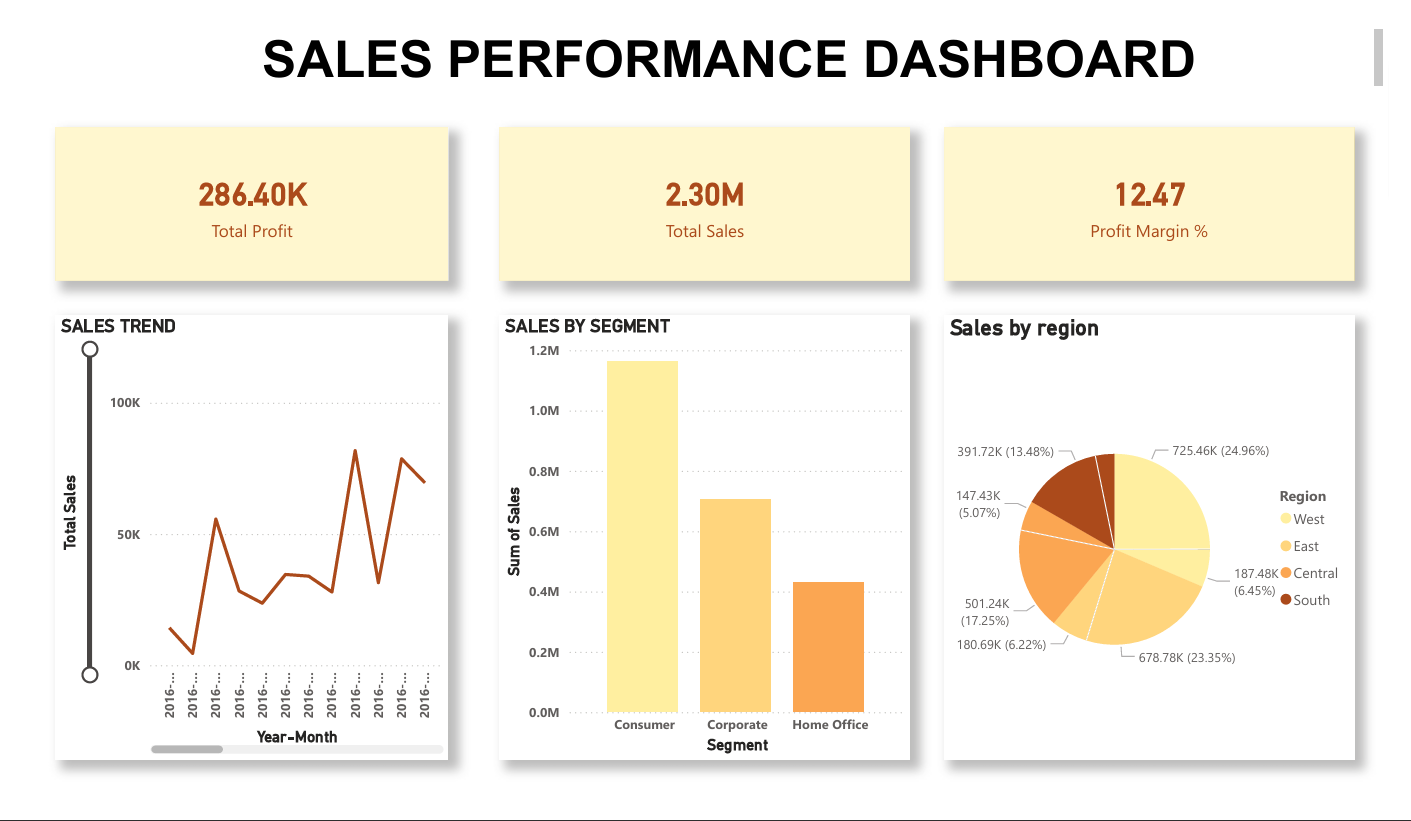

What the dashboard file says about the page in this screenshot:
{"tool":"powerbi","page":{"name":"\tFINAL DASHBOARD SCREENSHOT","canvas":[1280,720],"ordinal":2},"visuals":[{"type":"textbox","box":[16,0,1264,96],"z":0},{"type":"textbox","box":[16,64,1264,64],"z":1000},{"type":"card","fields":{"Values":["Orders.Total Sales"]},"box":[32,128,384,144],"z":2000},{"type":"card","fields":{"Values":["Orders.Total Sales"]},"box":[448,128,384,144],"z":3000},{"type":"card","fields":{"Values":["Orders.Total Sales"]},"box":[864,128,384,144],"z":4000},{"type":"lineChart","title":"SALES TREND","fields":{"Category":["Date.Year-Month"],"Y":["Orders.Total Sales"]},"box":[32,304,384,400],"z":5000},{"type":"columnChart","title":"SALES BY SEGMENT","fields":{"Category":["Orders.Segment"],"Y":["Sum(Orders.Sales)"]},"box":[448,304,384,400],"z":6000},{"type":"pieChart","title":"Sales Distribution by Region","fields":{"Category":["Orders.Region"],"Y":["Orders.Total Sales"]},"box":[864,304,384,400],"z":7000}]}

Visuals, with their boxes on the page's 1280x720 design canvas (x1, y1, x2, y2). These are canvas units, not pixel positions in the 1411x821 screenshot, which may show the page scaled, cropped or inside an application window:
textbox: {"left": 16, "top": 0, "right": 1280, "bottom": 96}
textbox: {"left": 16, "top": 64, "right": 1280, "bottom": 128}
card - Orders.Total Sales: {"left": 32, "top": 128, "right": 416, "bottom": 272}
card - Orders.Total Sales: {"left": 448, "top": 128, "right": 832, "bottom": 272}
card - Orders.Total Sales: {"left": 864, "top": 128, "right": 1248, "bottom": 272}
"SALES TREND" lineChart: {"left": 32, "top": 304, "right": 416, "bottom": 704}
"SALES BY SEGMENT" columnChart: {"left": 448, "top": 304, "right": 832, "bottom": 704}
"Sales Distribution by Region" pieChart: {"left": 864, "top": 304, "right": 1248, "bottom": 704}
